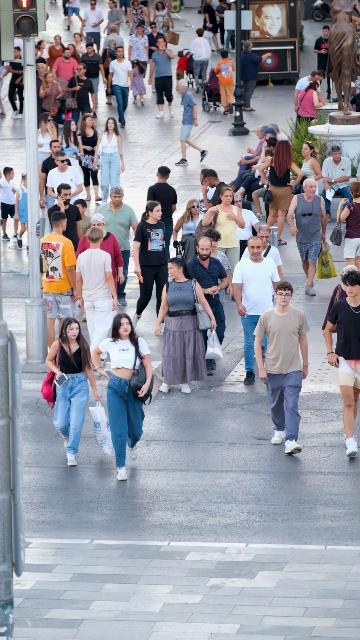person: (92, 313, 153, 481), (253, 282, 310, 456), (43, 316, 104, 467), (155, 257, 217, 394), (231, 236, 282, 386), (322, 271, 360, 459), (185, 236, 230, 377), (39, 211, 78, 349), (76, 228, 119, 353), (96, 185, 138, 307), (132, 201, 172, 327), (285, 178, 327, 296), (259, 140, 304, 247), (198, 186, 246, 276), (75, 213, 125, 295), (227, 128, 277, 196), (46, 151, 84, 229), (175, 79, 208, 167), (93, 117, 125, 205), (146, 166, 178, 253), (320, 145, 355, 223), (47, 183, 85, 253), (238, 40, 273, 112), (229, 145, 274, 201), (77, 113, 102, 202), (148, 38, 175, 119), (243, 150, 274, 220), (66, 62, 96, 134), (107, 46, 133, 129), (80, 43, 112, 106), (40, 139, 68, 210), (232, 125, 264, 187), (253, 224, 285, 283), (232, 194, 260, 261), (205, 227, 235, 289), (293, 70, 326, 124), (173, 198, 203, 256), (0, 47, 24, 119), (59, 119, 85, 183), (37, 112, 58, 186), (0, 167, 20, 241), (189, 27, 212, 91), (9, 174, 28, 251), (251, 137, 278, 189), (215, 49, 236, 115), (297, 80, 326, 125), (298, 142, 323, 194), (52, 48, 78, 97), (81, 0, 104, 55), (198, 168, 228, 209), (40, 71, 63, 124), (128, 23, 150, 77), (216, 0, 236, 52), (313, 25, 331, 82), (202, 0, 221, 52), (102, 25, 125, 67), (151, 1, 174, 43), (127, 0, 151, 36), (35, 61, 51, 114), (146, 21, 164, 63), (103, 0, 123, 36), (132, 59, 147, 106), (74, 199, 92, 237), (48, 34, 65, 70), (176, 50, 192, 82), (115, 0, 132, 23), (70, 33, 85, 57), (269, 124, 289, 142), (66, 44, 81, 64), (35, 47, 47, 67)
